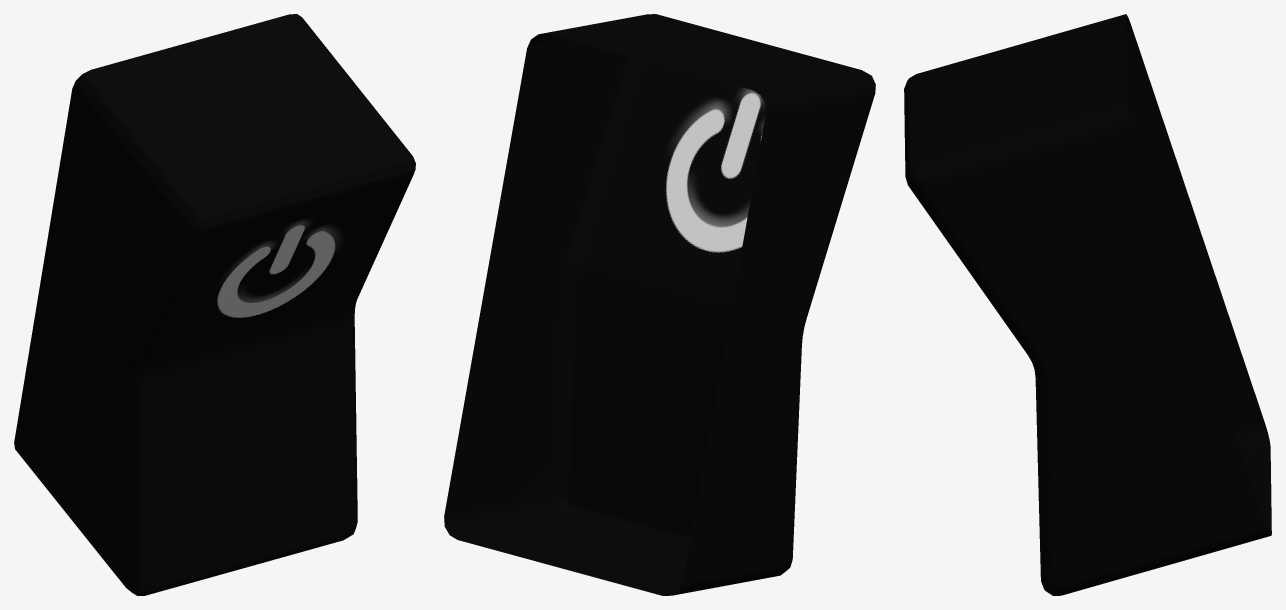
Rendered from DeviceSwirchOFF.obj.
3 views of the same model, side by side, from view 1: azimuth 30°, elevation 25°; view 2: azimuth 150°, elevation 25°; view 3: azimuth 270°, elevation 25° (orthographic). The views are drawn at different scales.
Visible parts, largest first — view 1: OffSwitch; view 2: OffSwitch; view 3: OffSwitch.
Boxes of the visible parts, x1,y1,x2,y2 form: OffSwitch: (14,14,415,595); OffSwitch: (444,14,875,595); OffSwitch: (904,14,1271,595).
Size of the model in its own units: 0.776 by 1.53 by 1.04.
Materials: 1 (1 with a texture image).
